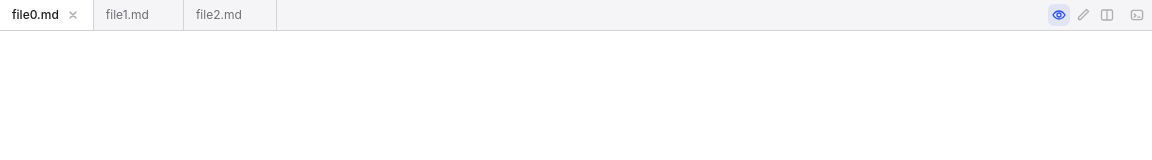
it: pointer drag reordering › shows the trailing-edge indicator and the label ghost when dragging right
Press the mouse on the text "file0.md" at (47, 15), box [0,0,94,30]
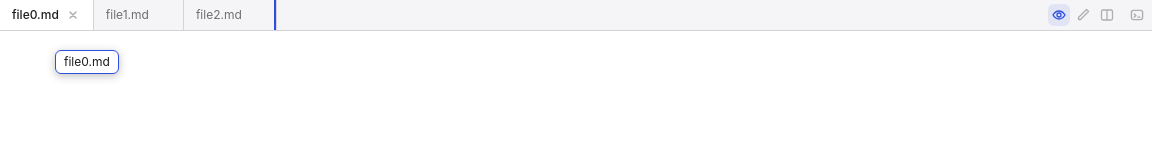
Check: the text with class "drag-ghost" reads "file0.md", box [64,54,110,69]
